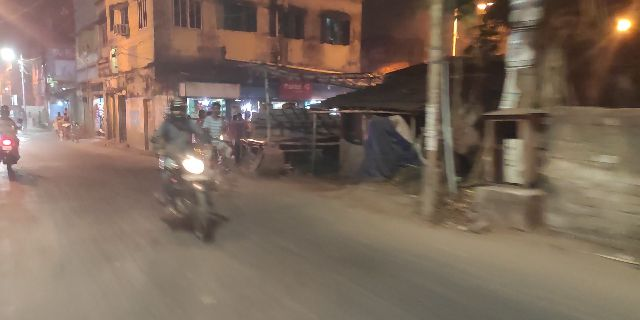Motorbike: (150, 91, 234, 246)
